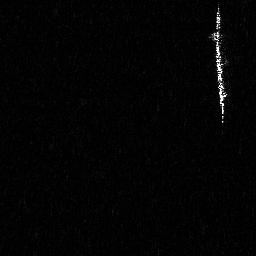ship: (208, 6, 230, 129)
